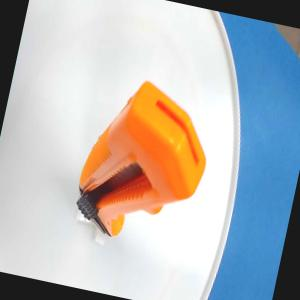estilete: (68, 69, 221, 255)
